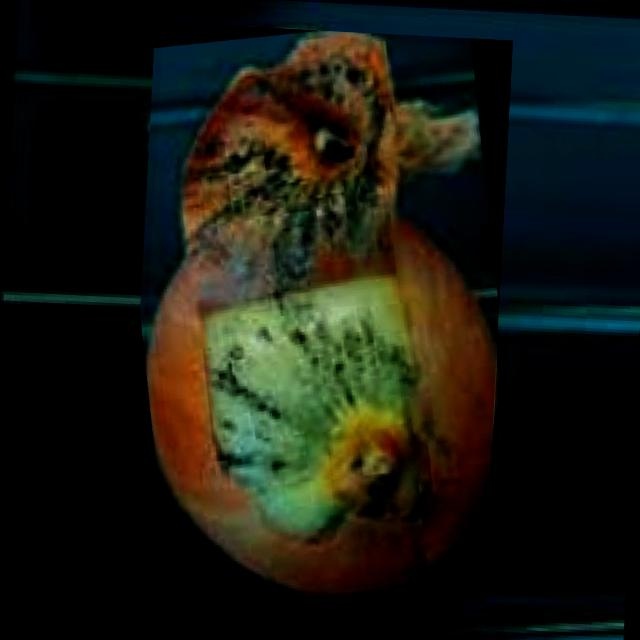rotten: (146, 31, 497, 593)
